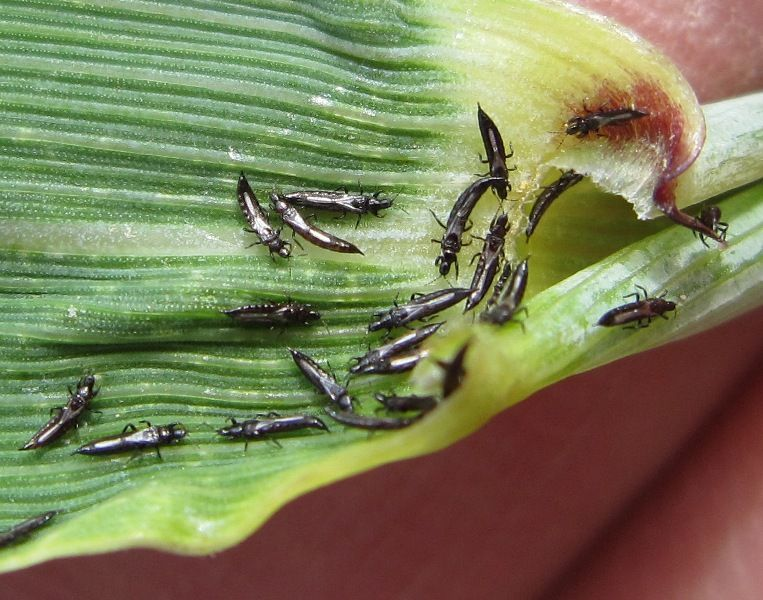Phlaeothripidae: (427, 171, 507, 289), (358, 282, 481, 341), (268, 191, 370, 259), (68, 413, 189, 468), (200, 409, 333, 458), (16, 375, 96, 453), (341, 321, 447, 379), (233, 170, 297, 263), (459, 204, 513, 311), (549, 98, 648, 152), (208, 291, 320, 336), (472, 100, 517, 201), (588, 288, 681, 333), (292, 346, 356, 409), (481, 257, 529, 333), (281, 186, 399, 216)
